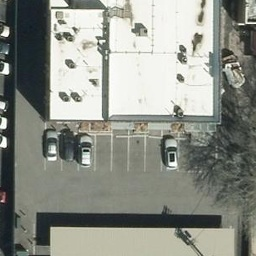car: (44, 129, 60, 164), (165, 138, 181, 171), (62, 135, 75, 163), (80, 138, 93, 166)
